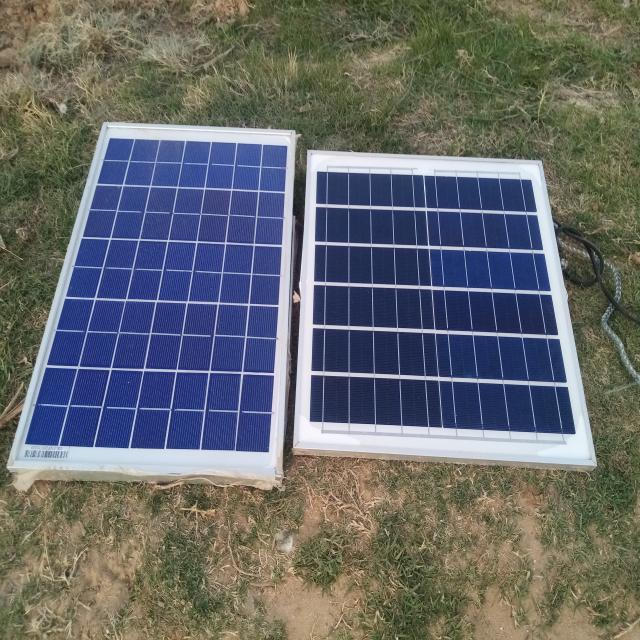no faulty: (8, 129, 298, 476), (298, 152, 595, 466)
